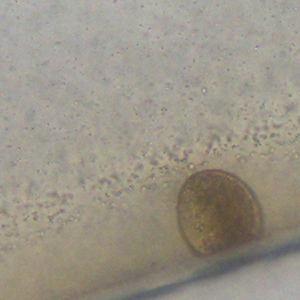Fasciola_hepatica_egg: (175, 167, 264, 257)
